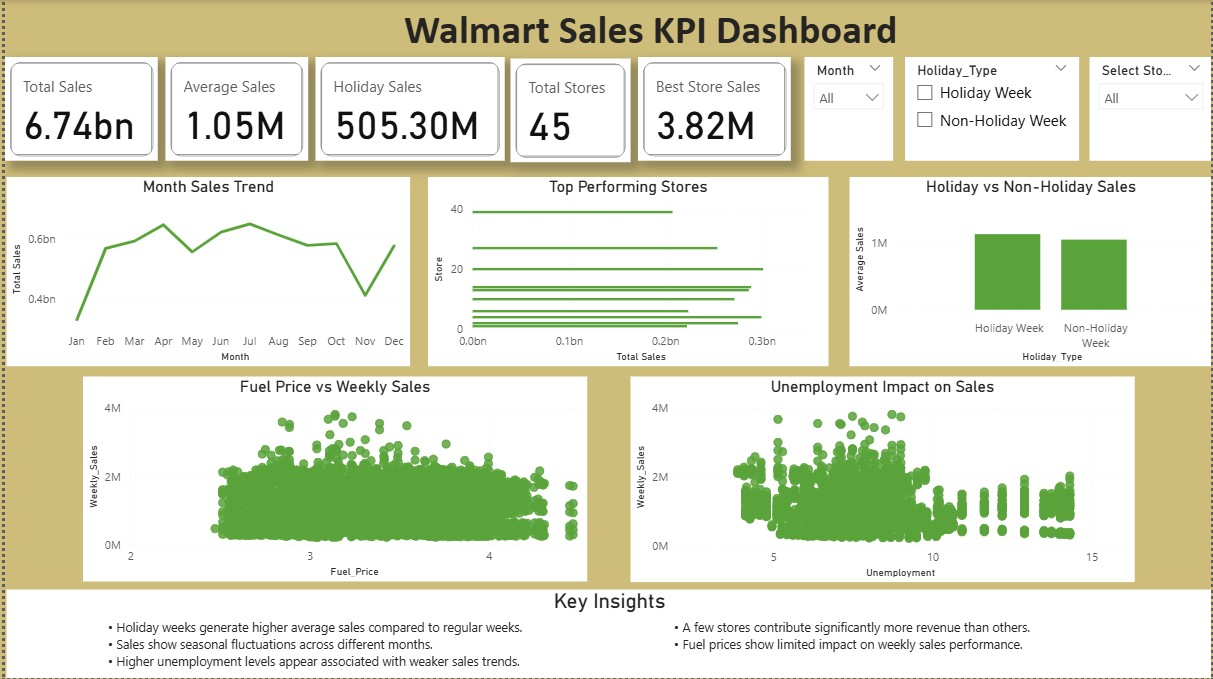

The dashboard page shown, as its layout file describes it:
{"tool":"powerbi","page":{"name":"Page 1","canvas":[1280,720],"ordinal":0},"visuals":[{"type":"cardVisual","fields":{"Data":["sales.Total Sales"]},"box":[0,60.4,162.2,110],"z":0},{"type":"cardVisual","fields":{"Data":["sales.Average Sales"]},"box":[169.8,60.4,151.1,110],"z":1000},{"type":"cardVisual","fields":{"Data":["sales.Holiday Sales"]},"box":[328.5,60.4,200.4,110],"z":2000},{"type":"cardVisual","fields":{"Data":["sales.Total Stores"]},"box":[536.4,62,127.2,110],"z":3000},{"type":"lineChart","title":"Month Sales Trend","fields":{"Category":["sales.Month"],"Y":["sales.Total Sales"]},"box":[1.6,187.7,427.9,200.4],"z":4000},{"type":"clusteredBarChart","title":"Top Performing Stores","fields":{"Category":["sales.Store"],"Y":["sales.Total Sales"]},"box":[448.6,187.7,424.7,200.4],"z":5000},{"type":"clusteredColumnChart","title":"Holiday vs Non-Holiday Sales","fields":{"Category":["sales.Holiday_Type"],"Y":["sales.Average Sales"]},"box":[895,187.7,385,200.4],"z":6000},{"type":"scatterChart","title":"Fuel Price vs Weekly Sales","fields":{"X":["sales.Fuel_Price"],"Y":["sales.Weekly_Sales"]},"box":[82.2,400,534.4,217],"z":7000},{"type":"scatterChart","title":"Unemployment Impact on Sales","fields":{"X":["sales.Unemployment"],"Y":["sales.Weekly_Sales"]},"box":[662.8,400,534.4,217.9],"z":8000},{"type":"cardVisual","fields":{"Data":["sales.Best Store Sales"]},"box":[671.2,60.4,162.2,110],"z":9000},{"type":"slicer","fields":{"Values":["sales.Month"]},"box":[847.8,60.4,93.8,109.8],"z":10000},{"type":"slicer","fields":{"Values":["sales.Store"]},"box":[1150,60.4,130.4,109.8],"z":11000},{"type":"slicer","fields":{"Values":["sales.Holiday_Type"]},"box":[954.4,60.4,184.5,109.8],"z":12000},{"type":"textbox","box":[359.5,0,650.6,73.2],"z":13000},{"type":"textbox","title":"Key Insights","box":[1.6,625.1,1278.9,95],"z":14000}]}

Visuals, with their boxes in screenshot pixels (x1, y1, x2, y2), scaled from the page's 1280x720 canvas onto the 1213x679 screenshot:
cardVisual - sales.Total Sales: [x1=0, y1=57, x2=154, y2=161]
cardVisual - sales.Average Sales: [x1=161, y1=57, x2=304, y2=161]
cardVisual - sales.Holiday Sales: [x1=311, y1=57, x2=501, y2=161]
cardVisual - sales.Total Stores: [x1=508, y1=58, x2=629, y2=162]
"Month Sales Trend" lineChart: [x1=2, y1=177, x2=407, y2=366]
"Top Performing Stores" clusteredBarChart: [x1=425, y1=177, x2=828, y2=366]
"Holiday vs Non-Holiday Sales" clusteredColumnChart: [x1=848, y1=177, x2=1212, y2=366]
"Fuel Price vs Weekly Sales" scatterChart: [x1=78, y1=377, x2=584, y2=582]
"Unemployment Impact on Sales" scatterChart: [x1=628, y1=377, x2=1135, y2=583]
cardVisual - sales.Best Store Sales: [x1=636, y1=57, x2=790, y2=161]
slicer - sales.Month: [x1=803, y1=57, x2=892, y2=161]
slicer - sales.Store: [x1=1090, y1=57, x2=1212, y2=161]
slicer - sales.Holiday_Type: [x1=904, y1=57, x2=1079, y2=161]
textbox: [x1=341, y1=0, x2=957, y2=69]
"Key Insights" textbox: [x1=2, y1=590, x2=1212, y2=678]
